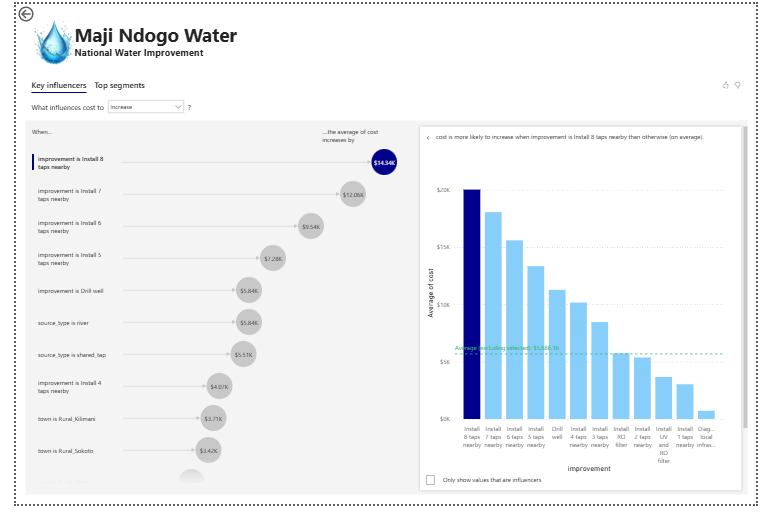

This screenshot's page, from the dashboard's own definition file:
{"tool":"powerbi","page":{"name":"Key Influencers","canvas":[1480,1000],"ordinal":1},"visuals":[{"type":"image","box":[9.3,13,131.5,129.6],"z":0},{"type":"textbox","box":[111.1,29.6,351.9,107.4],"z":1000},{"type":"slicer","fields":{"Values":["project_progress.date_of_completion"]},"box":[622.2,564.8,363,133.3],"z":6000},{"type":"actionButton","box":[0,0,100,40],"z":11000},{"type":"keyDriversVisual","fields":{"Target":["project_progress.cost"],"ExplainBy":["project_progress.improvement","project_progress.source_type","project_progress.town"]},"box":[14,138,1454,848],"z":15001}]}

Visuals, with their boxes in screenshot pixels (x1, y1, x2, y2), scaled from the page's 1480x1000 canvas onto the 769x514 screenshot:
image: <box>5,7,73,73</box>
textbox: <box>58,15,241,70</box>
slicer - project_progress.date_of_completion: <box>323,290,512,359</box>
actionButton: <box>0,0,52,21</box>
keyDriversVisual - project_progress.cost x project_progress.improvement: <box>7,71,763,507</box>
